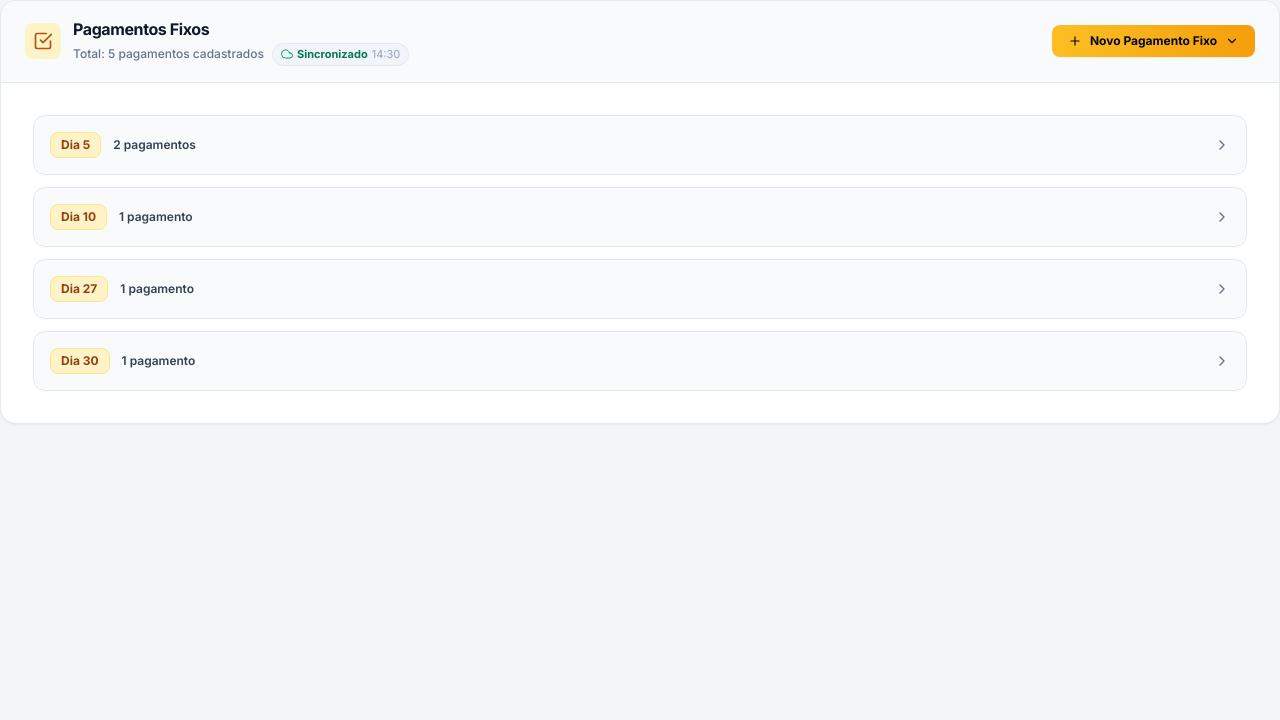
Scenario: Pagamentos fixos — editar (exige senha de admin) › senha correta abre o modal de edição preenchido
Click the button "Dia 5 2 pagamentos" at {"x": 76, "y": 144}, box [34, 116, 1246, 174]
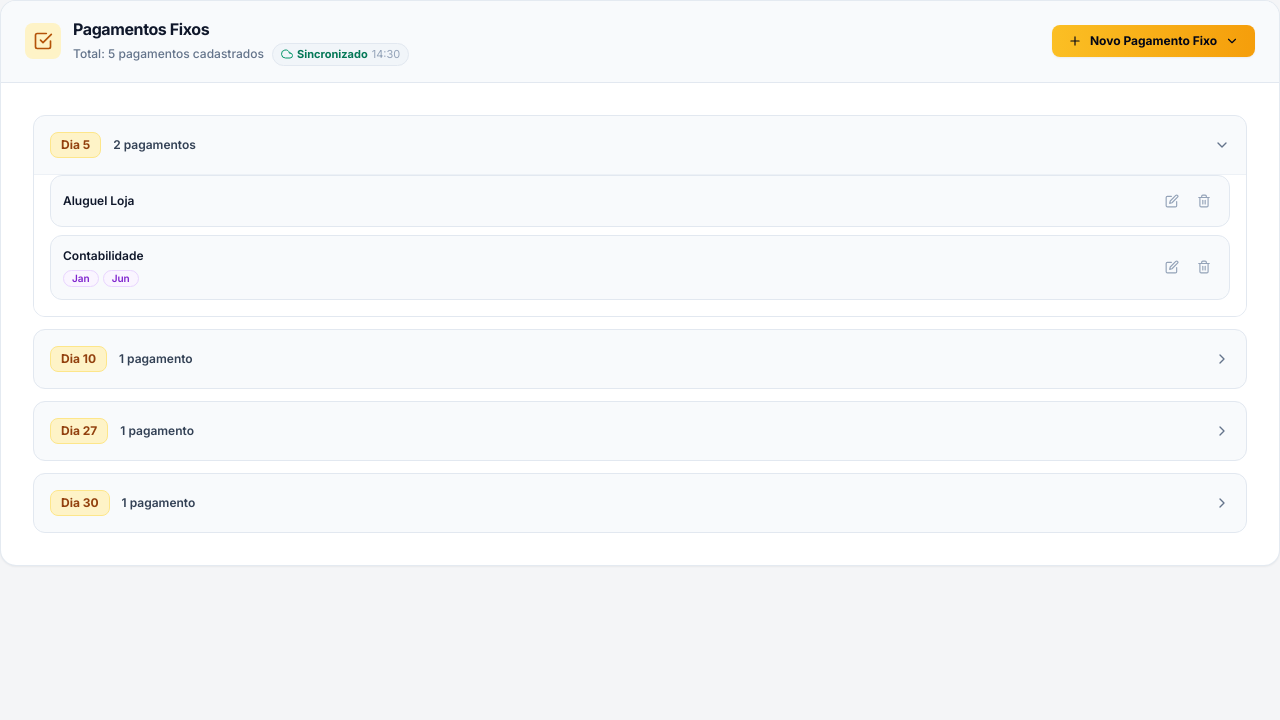
Click the button titled "Editar" in the row of "Contabilidade" at {"x": 1172, "y": 267}, box [1159, 254, 1185, 280]
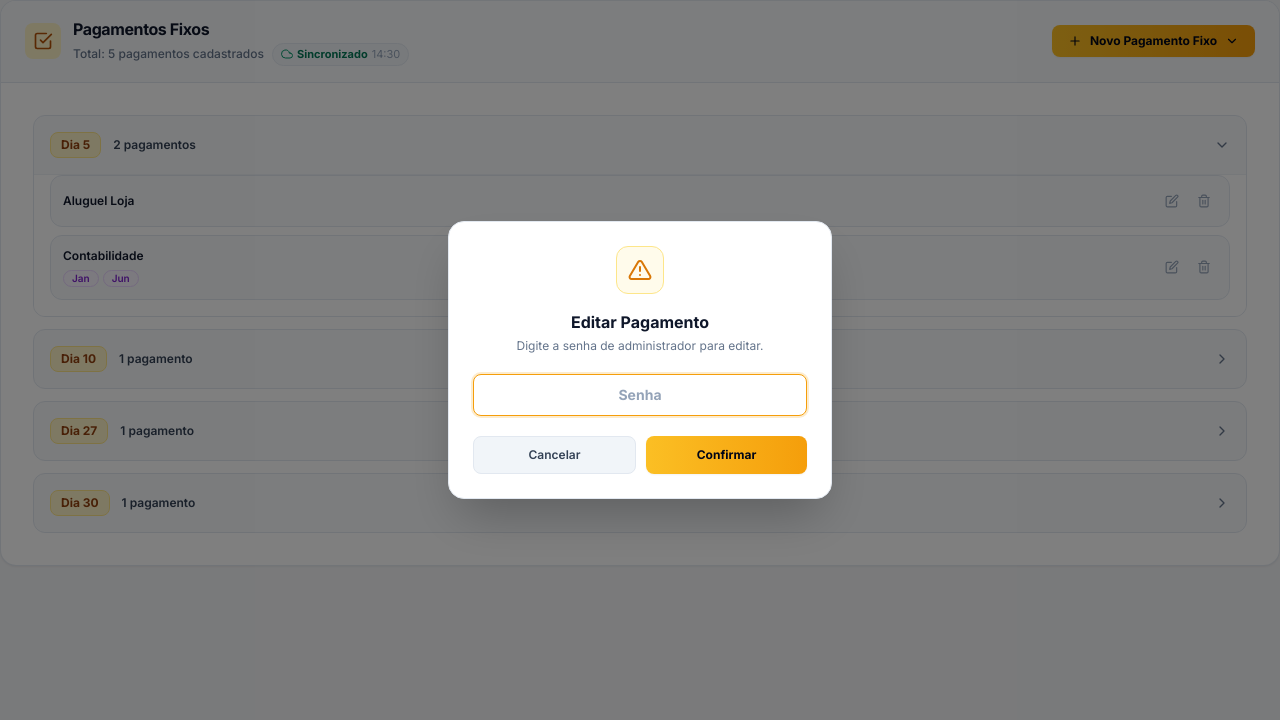
Type "certa" into the password field with placeholder "Senha" at {"x": 640, "y": 395}, box [473, 374, 807, 416]
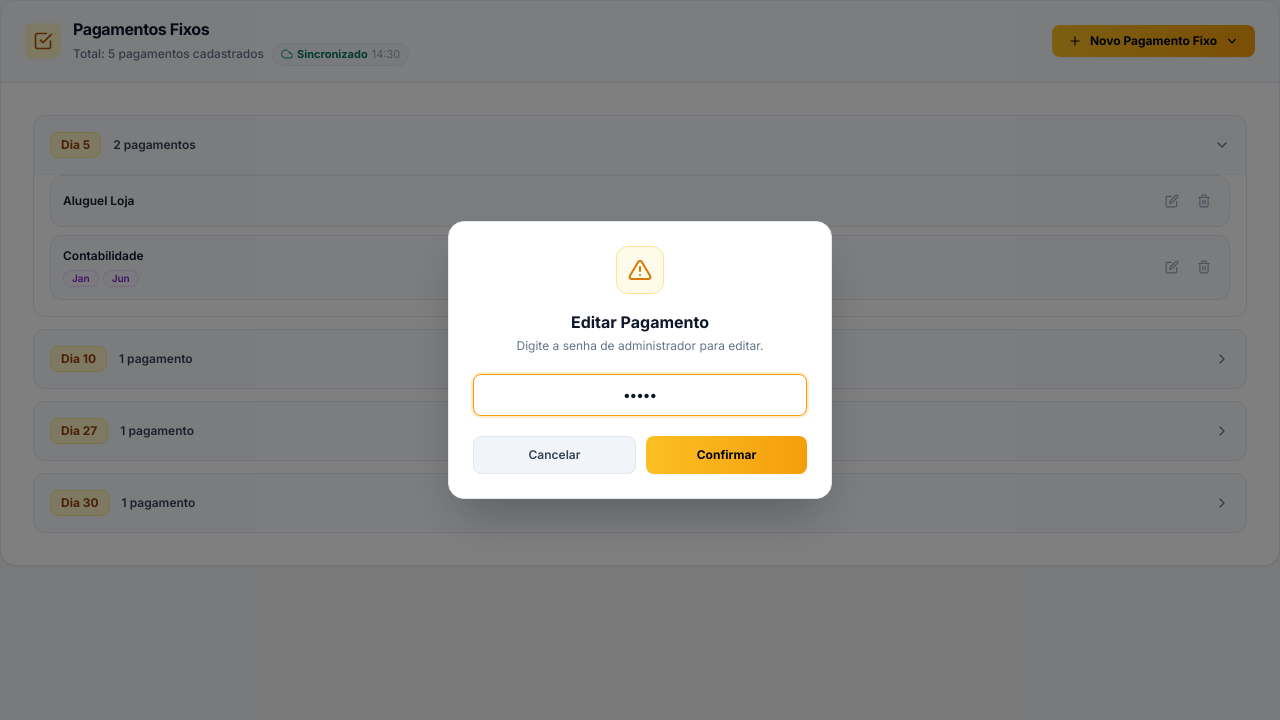
Click the button "Confirmar" at {"x": 726, "y": 455}, box [646, 436, 807, 474]
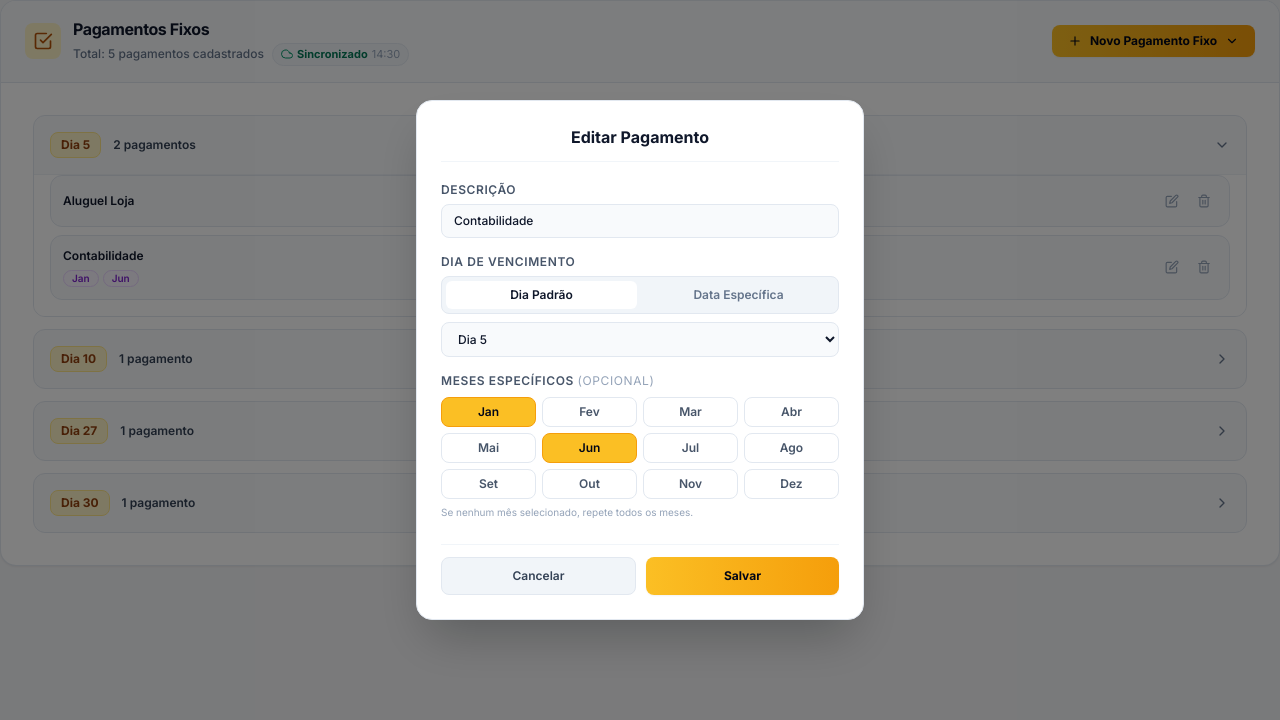
Expected: the heading "Editar Pagamento" is shown, [441, 125, 839, 162]
Expected: the text with placeholder "senha" is gone
Expected: the field with placeholder "Ex: Aluguel Loja Premium" holds "Contabilidade", [441, 204, 839, 238]
